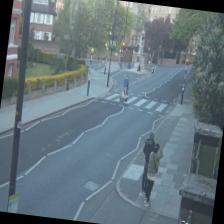person: (142, 141, 164, 208), (137, 129, 158, 193)
